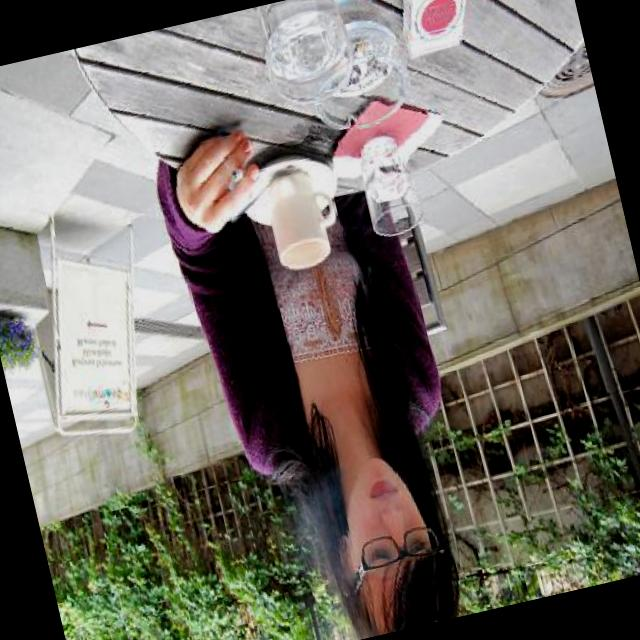smoke: (220, 152, 262, 204)
